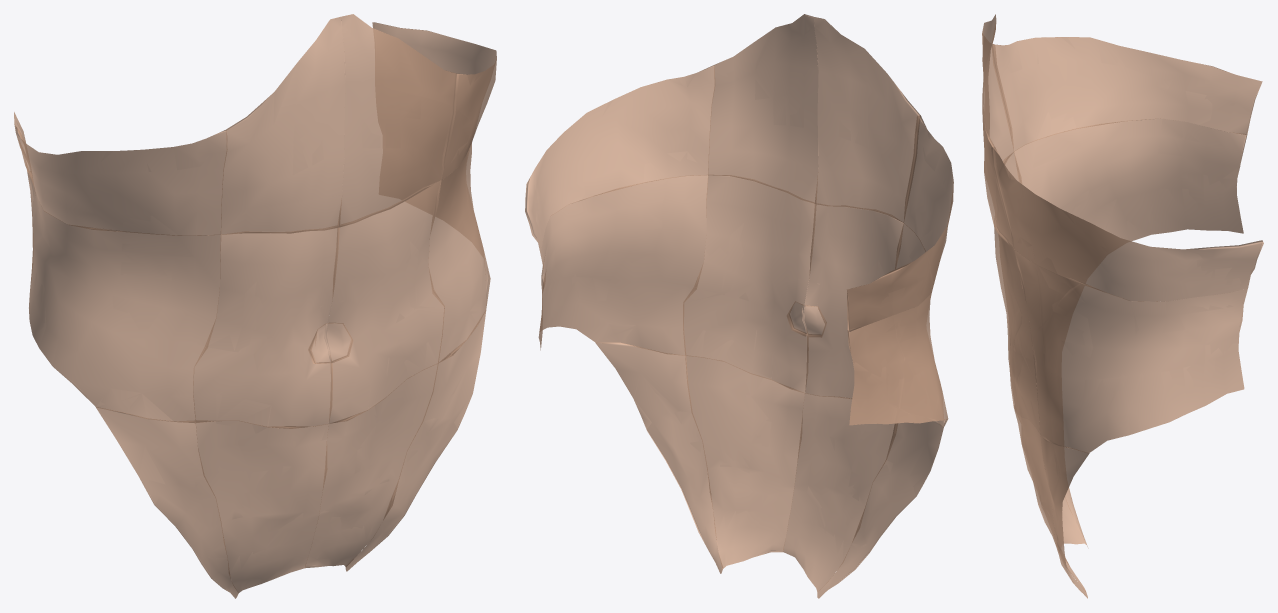
The model's file is regions.abdomen.glb.
The picture shows the model from 3 angles, left to right: view 1: azimuth 30°, elevation 25°; view 2: azimuth 150°, elevation 25°; view 3: azimuth 270°, elevation 25°; orthographic projection. The views are drawn at different scales.
Visible parts, largest first — view 1: right_lateral_region_of_abdomen, right_umbilical_region, right_epigastric_region, left_umbilical_region, left_epigastric_region, right_hypogastric_region, right_hypochondriac_region, left_hypogastric_region, right_inguinal_region, left_lateral_region_of_abdomen, left_inguinal_region, left_hypochondriac_region (+1 smaller); view 2: left_lateral_region_of_abdomen, left_umbilical_region, left_hypogastric_region, left_hypochondriac_region, left_epigastric_region, right_epigastric_region, right_hypogastric_region, right_umbilical_region, right_lateral_region_of_abdomen, left_inguinal_region, right_hypochondriac_region, right_inguinal_region (+1 smaller); view 3: left_lateral_region_of_abdomen, right_lateral_region_of_abdomen, right_hypochondriac_region, left_hypochondriac_region, left_umbilical_region, left_inguinal_region, right_epigastric_region, left_epigastric_region, left_hypogastric_region, right_hypogastric_region.
Boxes of the visible parts, left/top/right/bottom form: right_lateral_region_of_abdomen: left=27, top=172, right=220, bottom=423; right_umbilical_region: left=193, top=227, right=339, bottom=428; right_epigastric_region: left=221, top=16, right=345, bottom=234; left_umbilical_region: left=327, top=180, right=444, bottom=423; left_epigastric_region: left=340, top=14, right=459, bottom=227; right_hypogastric_region: left=195, top=420, right=328, bottom=593; right_hypochondriac_region: left=14, top=112, right=227, bottom=235; left_hypogastric_region: left=305, top=363, right=438, bottom=568; right_inguinal_region: left=96, top=407, right=238, bottom=598; left_lateral_region_of_abdomen: left=428, top=142, right=490, bottom=363; left_inguinal_region: left=345, top=311, right=485, bottom=571; left_hypochondriac_region: left=372, top=22, right=496, bottom=180; left_lateral_region_of_abdomen: left=538, top=175, right=708, bottom=355; left_umbilical_region: left=683, top=175, right=815, bottom=392; left_hypogastric_region: left=686, top=355, right=804, bottom=569; left_hypochondriac_region: left=525, top=65, right=714, bottom=254; left_epigastric_region: left=708, top=14, right=818, bottom=203; right_epigastric_region: left=814, top=17, right=920, bottom=222; right_hypogastric_region: left=783, top=393, right=896, bottom=592; right_umbilical_region: left=804, top=204, right=903, bottom=398; right_lateral_region_of_abdomen: left=847, top=223, right=948, bottom=427; left_inguinal_region: left=595, top=342, right=723, bottom=573; right_hypochondriac_region: left=847, top=115, right=953, bottom=331; right_inguinal_region: left=817, top=421, right=943, bottom=598; left_lateral_region_of_abdomen: left=1014, top=250, right=1247, bottom=453; right_lateral_region_of_abdomen: left=1014, top=118, right=1247, bottom=241; right_hypochondriac_region: left=992, top=37, right=1262, bottom=151; left_hypochondriac_region: left=991, top=147, right=1263, bottom=301; left_umbilical_region: left=994, top=220, right=1040, bottom=433; left_inguinal_region: left=1040, top=434, right=1089, bottom=598; right_epigastric_region: left=982, top=14, right=1013, bottom=164; left_epigastric_region: left=982, top=20, right=1013, bottom=248; left_hypogastric_region: left=1014, top=405, right=1086, bottom=592; right_hypogastric_region: left=1021, top=426, right=1086, bottom=544.
Bounding box in the file's own units: 0.2971 × 0.3938 × 0.1811.
